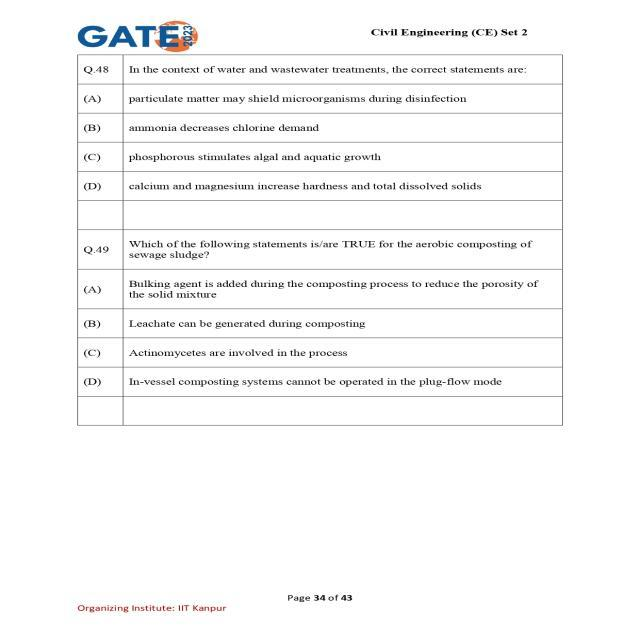Answer_Block: (78, 272, 555, 392), (81, 88, 558, 198)
Question_Answer_Block: (80, 232, 558, 396), (80, 58, 558, 202)
Question_Block: (84, 234, 554, 266), (83, 58, 552, 82)
Question_Paper_Area: (75, 56, 562, 425)
